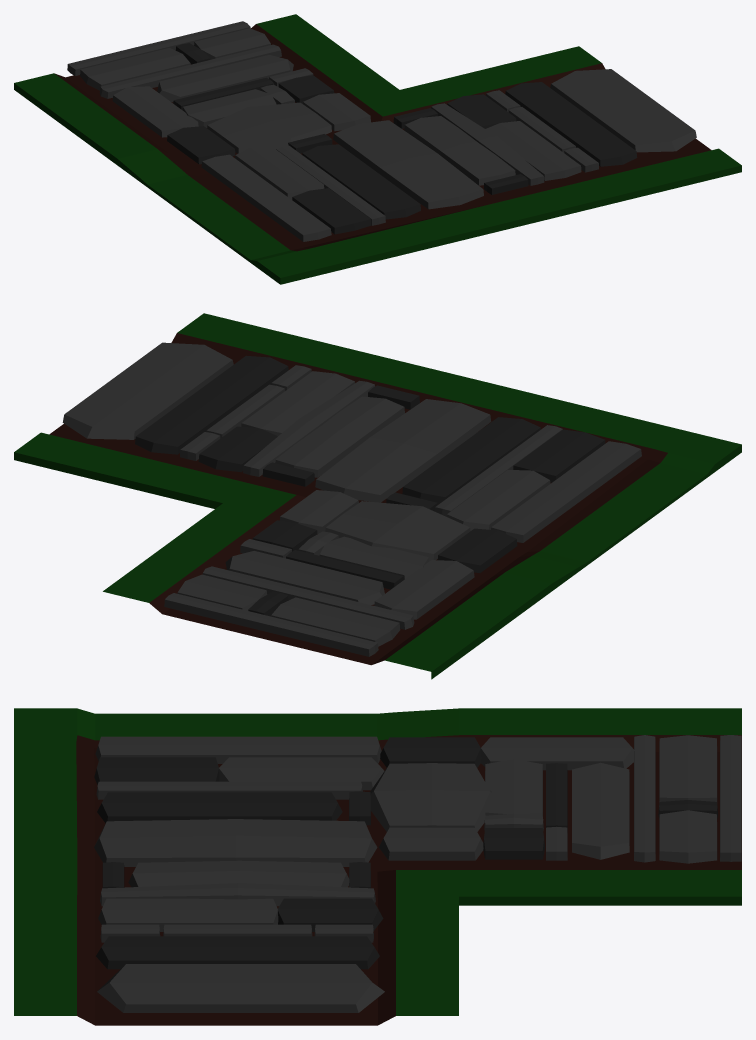
Rendered from chao-curva.obj.
3 views of the same model, one above another, from view 1: azimuth 30°, elevation 25°; view 2: azimuth 150°, elevation 25°; view 3: azimuth 270°, elevation 25° (orthographic). The views are drawn at different scales.
Visible parts, largest first — view 1: chao_curva_Plane.001; view 2: chao_curva_Plane.001; view 3: chao_curva_Plane.001.
Boxes of the visible parts, bbox=[...] form: chao_curva_Plane.001: bbox=[14, 14, 741, 284]; chao_curva_Plane.001: bbox=[14, 313, 741, 679]; chao_curva_Plane.001: bbox=[14, 708, 741, 1025].
Size of the model in its own units: 5.15 by 0.184 by 5.15.
